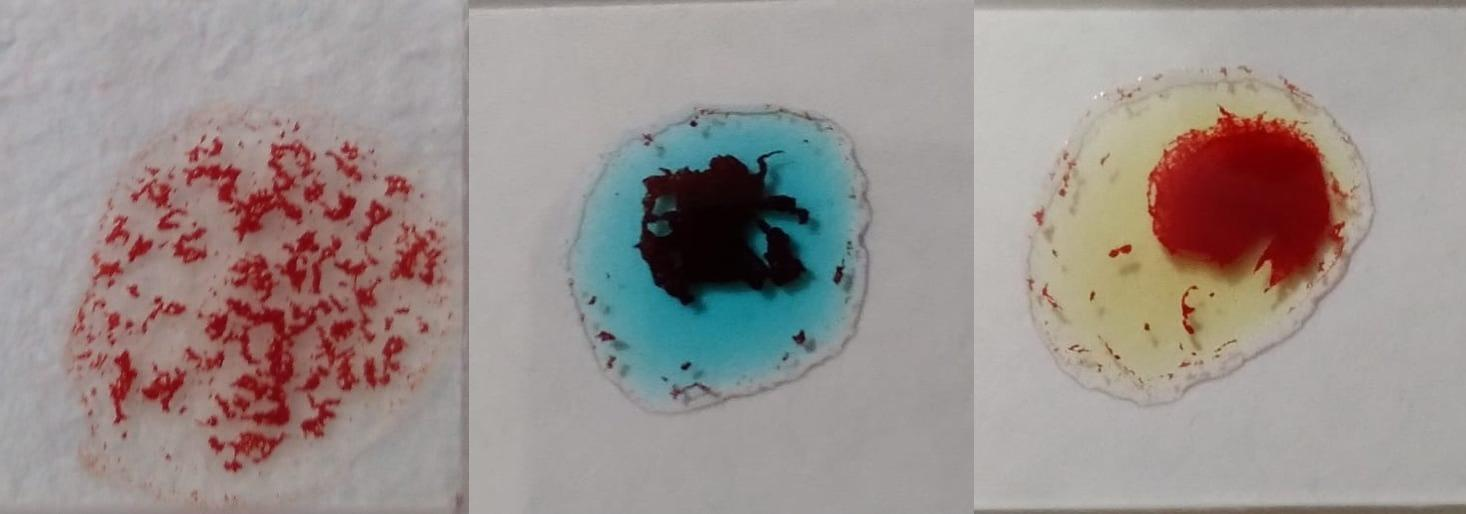A: (565, 105, 882, 404)
B: (1047, 69, 1374, 399)
D: (83, 105, 438, 479)
